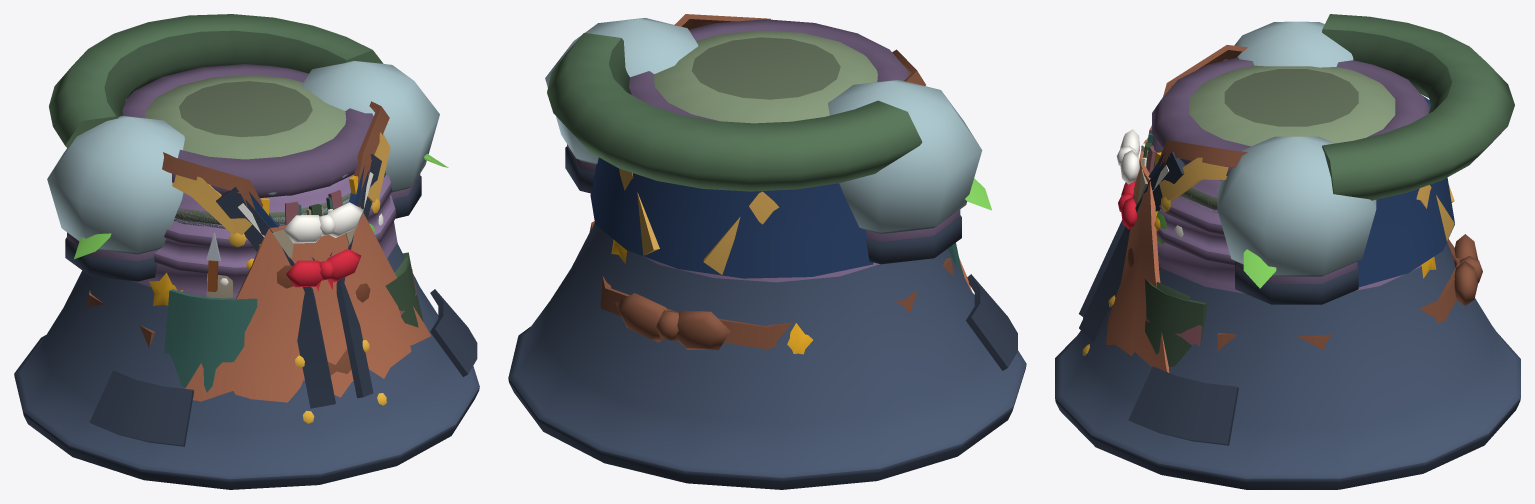
The model's file is wm-garments.glb.
The picture shows the model from 3 angles, left to right: view 1: azimuth 30°, elevation 25°; view 2: azimuth 150°, elevation 25°; view 3: azimuth 270°, elevation 25°; orthographic projection. The views are drawn at different scales.
Parts seen in each view (by area): view 1: garment_midnight@body, garment_clay@body, garment_fern@body, garment_plum@body, garment_sky_sleeve_l@arm-left, garment_meadow@body, garment_sky_sleeve_r@arm-right, garment_sage@body, garment_harbor@body, garment_honey@body, garment_sky@body, garment_midnight_sleeve_l@arm-left (+6 smaller); view 2: garment_midnight@body, garment_fern@body, garment_harbor@body, garment_meadow@body, garment_sky_sleeve_l@arm-left, garment_clay@body, garment_plum@body, garment_sky_sleeve_r@arm-right, garment_midnight_sleeve_l@arm-left, garment_honey@body, garment_plum_sleeve_l@arm-left, garment_midnight_sleeve_r@arm-right (+1 smaller); view 3: garment_midnight@body, garment_fern@body, garment_sky_sleeve_r@arm-right, garment_meadow@body, garment_plum@body, garment_clay@body, garment_harbor@body, garment_sky_sleeve_l@arm-left, garment_midnight_sleeve_r@arm-right, garment_honey@body, garment_sky@body, garment_plum_sleeve_r@arm-right (+2 smaller).
Boxes of the visible parts, x1,y1,x2,y2 form: garment_midnight@body: (14, 154, 479, 489); garment_clay@body: (86, 101, 430, 402); garment_fern@body: (49, 14, 423, 327); garment_plum@body: (122, 64, 397, 298); garment_sky_sleeve_l@arm-left: (47, 115, 184, 254); garment_meadow@body: (145, 75, 350, 224); garment_sky_sleeve_r@arm-right: (301, 61, 439, 192); garment_sage@body: (164, 197, 332, 392); garment_harbor@body: (238, 166, 373, 291); garment_honey@body: (172, 132, 390, 247); garment_sky@body: (173, 171, 385, 243); garment_midnight_sleeve_l@arm-left: (65, 237, 156, 281); garment_midnight@body: (508, 222, 1026, 489); garment_fern@body: (547, 33, 922, 191); garment_harbor@body: (590, 157, 873, 278); garment_meadow@body: (654, 30, 877, 123); garment_sky_sleeve_l@arm-left: (828, 79, 982, 233); garment_clay@body: (589, 14, 972, 350); garment_plum@body: (629, 19, 909, 282); garment_sky_sleeve_r@arm-right: (545, 18, 698, 164); garment_midnight_sleeve_l@arm-left: (866, 215, 961, 264); garment_honey@body: (619, 168, 779, 274); garment_plum_sleeve_l@arm-left: (866, 209, 960, 241); garment_midnight_sleeve_r@arm-right: (565, 146, 594, 193); garment_midnight@body: (1055, 151, 1520, 489); garment_fern@body: (1143, 14, 1514, 367); garment_sky_sleeve_r@arm-right: (1217, 136, 1376, 276); garment_meadow@body: (1141, 65, 1395, 209); garment_plum@body: (1152, 57, 1430, 293); garment_clay@body: (1106, 45, 1482, 372); garment_harbor@body: (1118, 95, 1454, 287); garment_sky_sleeve_l@arm-left: (1223, 21, 1353, 67); garment_midnight_sleeve_r@arm-right: (1235, 261, 1358, 304); garment_honey@body: (1159, 157, 1454, 241); garment_sky@body: (1116, 129, 1217, 213); garment_plum_sleeve_r@arm-right: (1236, 262, 1357, 283).
Bounding box in the file's own units: 1.3 × 1.04 × 1.27.
